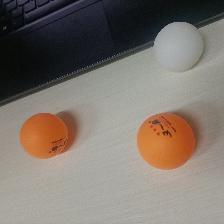WhiteBall: (152, 22, 203, 72)
YellowBall: (134, 111, 195, 169), (18, 112, 68, 160)
